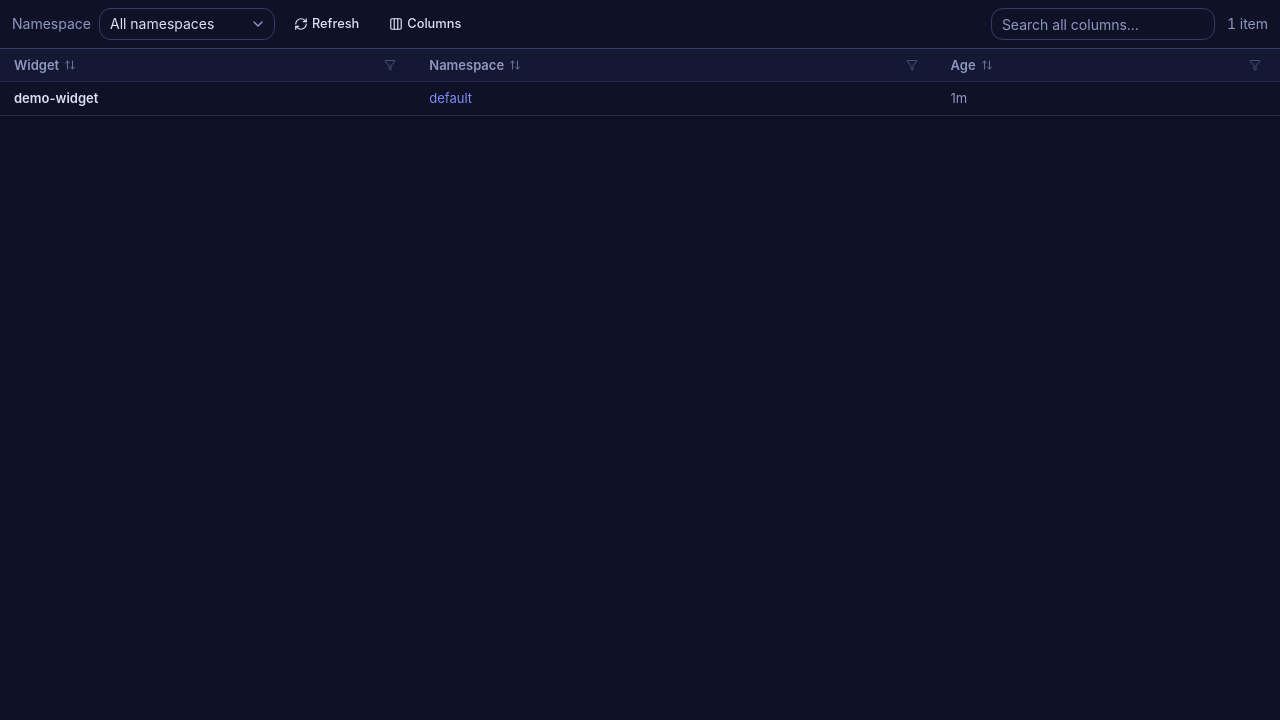
Test case: CRD column visibility › pins the identifying column so it can't be hidden
Expected: the text "demo-widget" is shown, [14, 90, 98, 106]
Click the button with aria-label "Choose columns".
click(427, 24)  # box [382, 10, 472, 38]
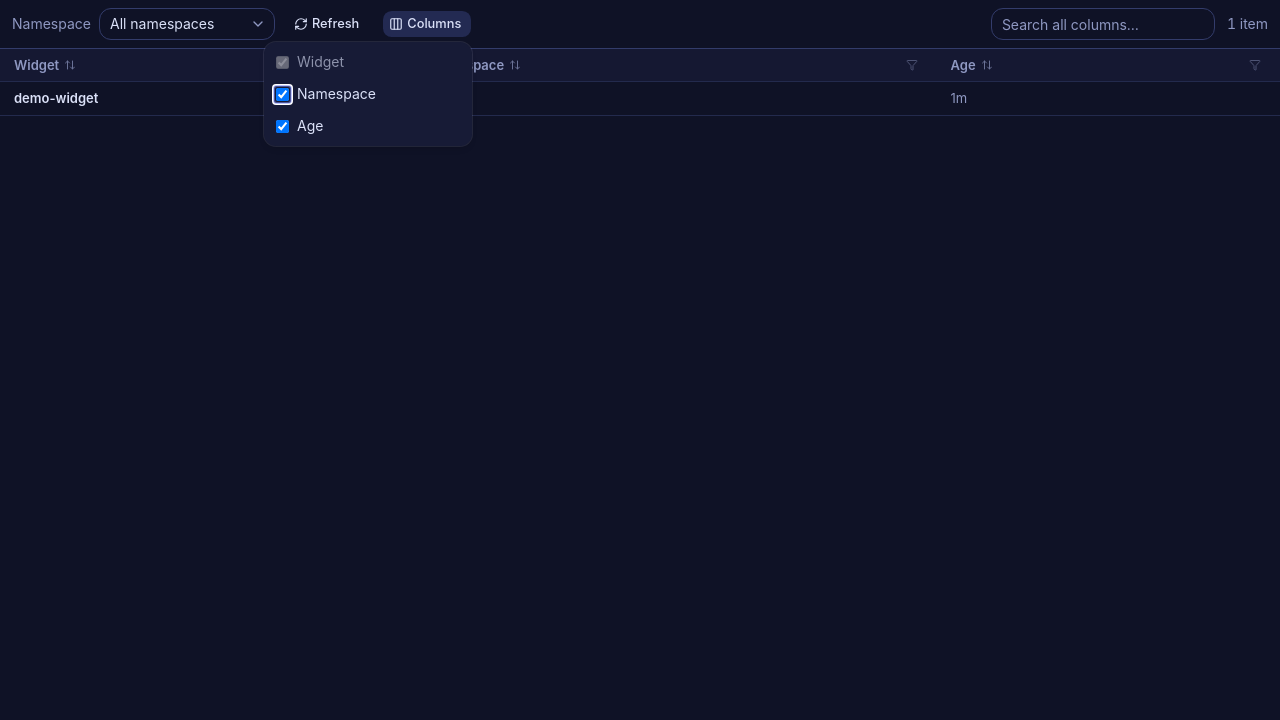
Now the checkbox labelled "Widget" is disabled, box [276, 56, 289, 68]
